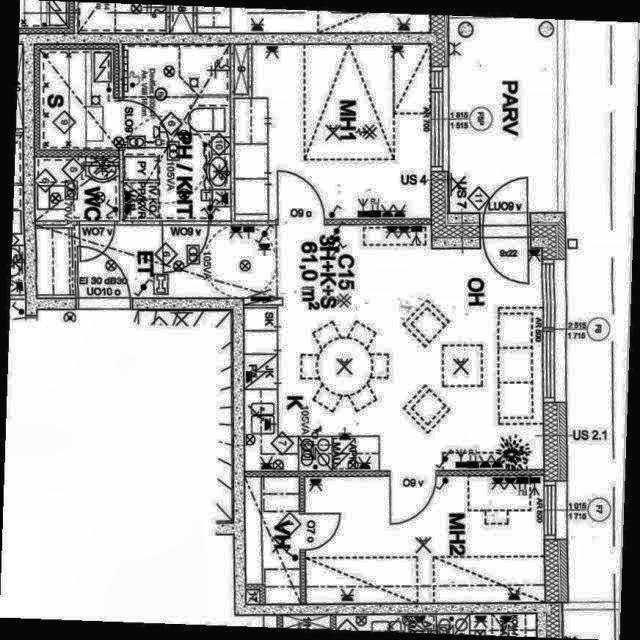room: (235, 44, 431, 219), (305, 475, 545, 604), (123, 44, 231, 221), (39, 50, 113, 149), (244, 477, 301, 605), (35, 157, 120, 221)
